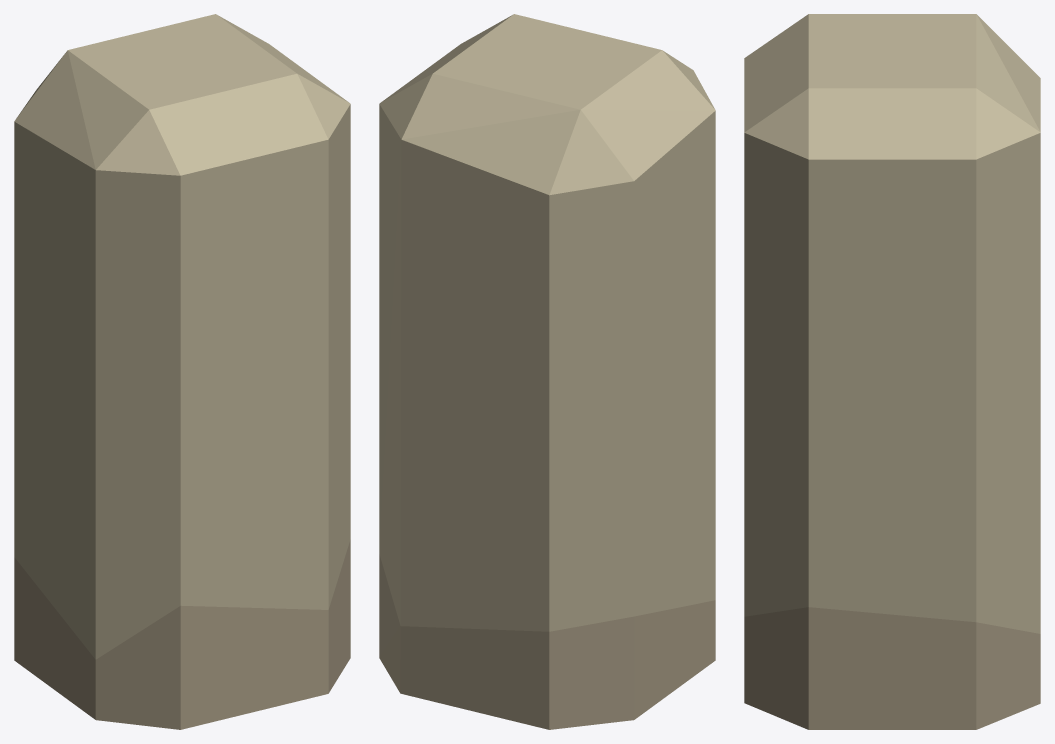
File: wall_stone_post.glb
The picture shows the model from 3 angles, left to right: view 1: azimuth 30°, elevation 25°; view 2: azimuth 150°, elevation 25°; view 3: azimuth 270°, elevation 25°; orthographic projection. The views are drawn at different scales.
Parts seen in each view (by area): view 1: SM_Bld_Wall_02; view 2: SM_Bld_Wall_02; view 3: SM_Bld_Wall_02.
Boxes of the visible parts, box(x1,y1,x2,y2) form: SM_Bld_Wall_02: box(14, 14, 350, 729); SM_Bld_Wall_02: box(379, 14, 715, 729); SM_Bld_Wall_02: box(744, 14, 1040, 729).
Size of the model in its own units: 54.26 by 121 by 53.11.
Materials: 1 (1 with a texture image).
